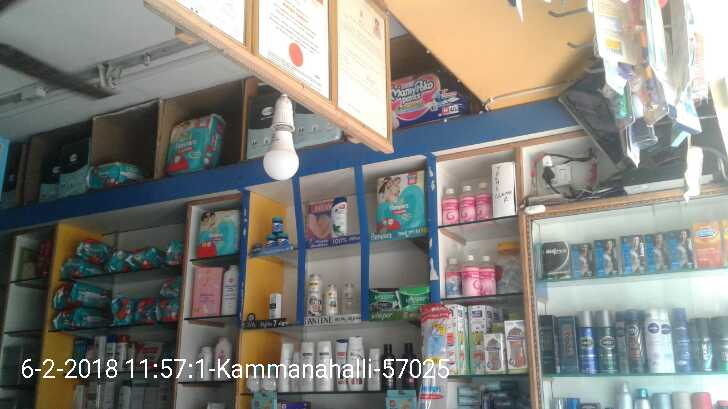beauty: (328, 194, 350, 239), (308, 272, 322, 317), (326, 283, 339, 315), (268, 292, 281, 319)
pharmacy: (374, 168, 428, 229), (368, 287, 401, 310), (399, 286, 431, 305), (270, 215, 284, 233)
